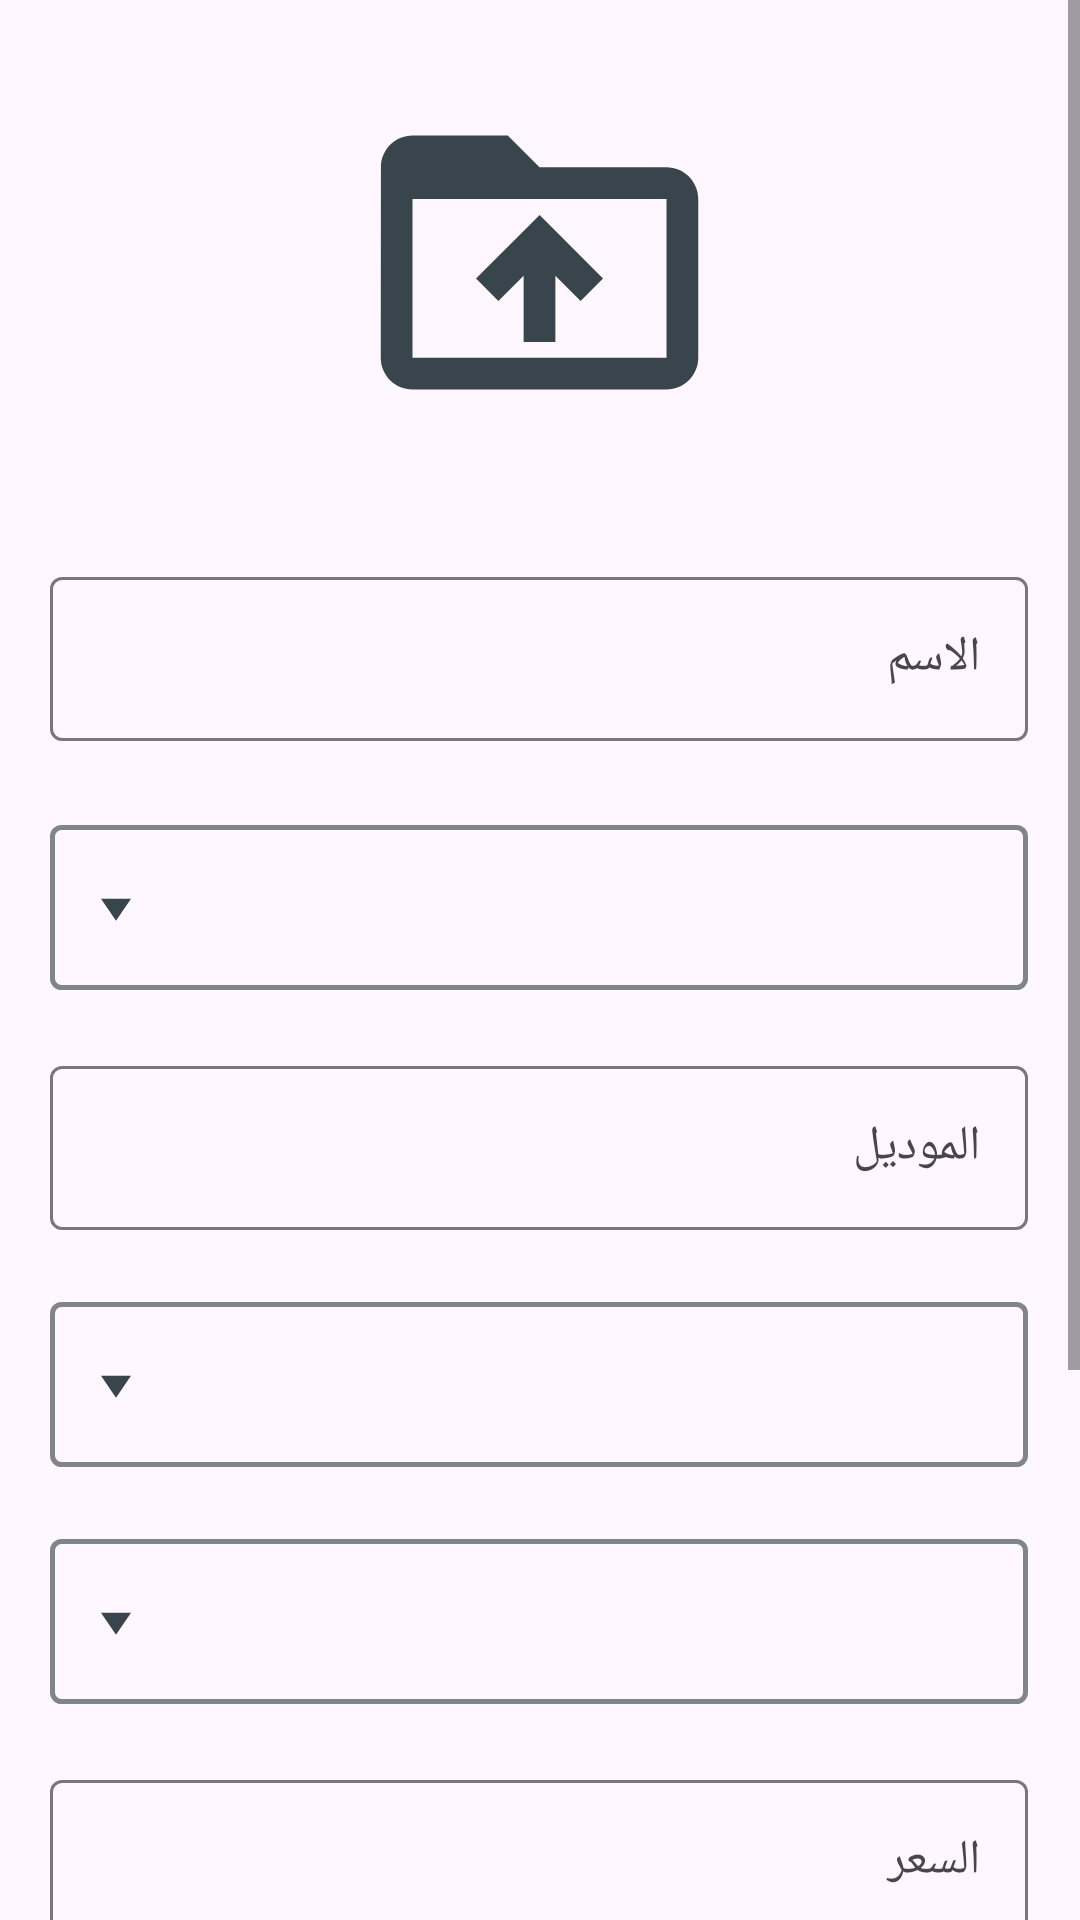

Named icons in this screenshot (1080px x 1920px) and their centers, (x=x, y=y):
upload: (x=539, y=262)
